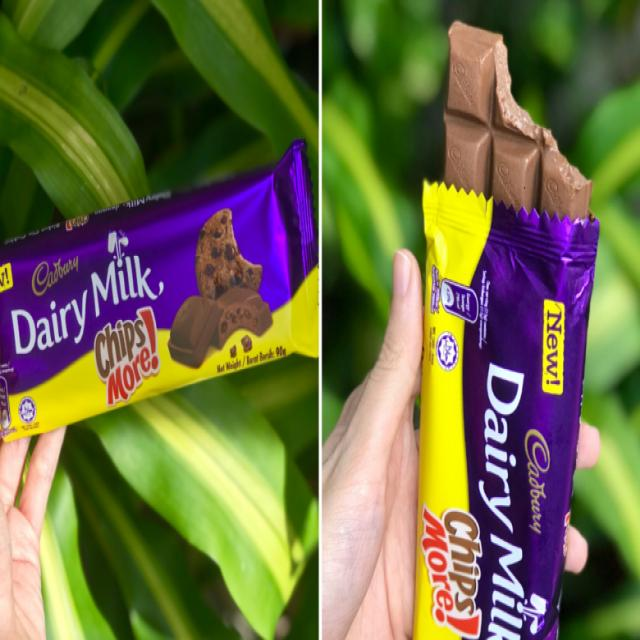cadbury: (0, 142, 319, 440), (420, 183, 595, 640)
